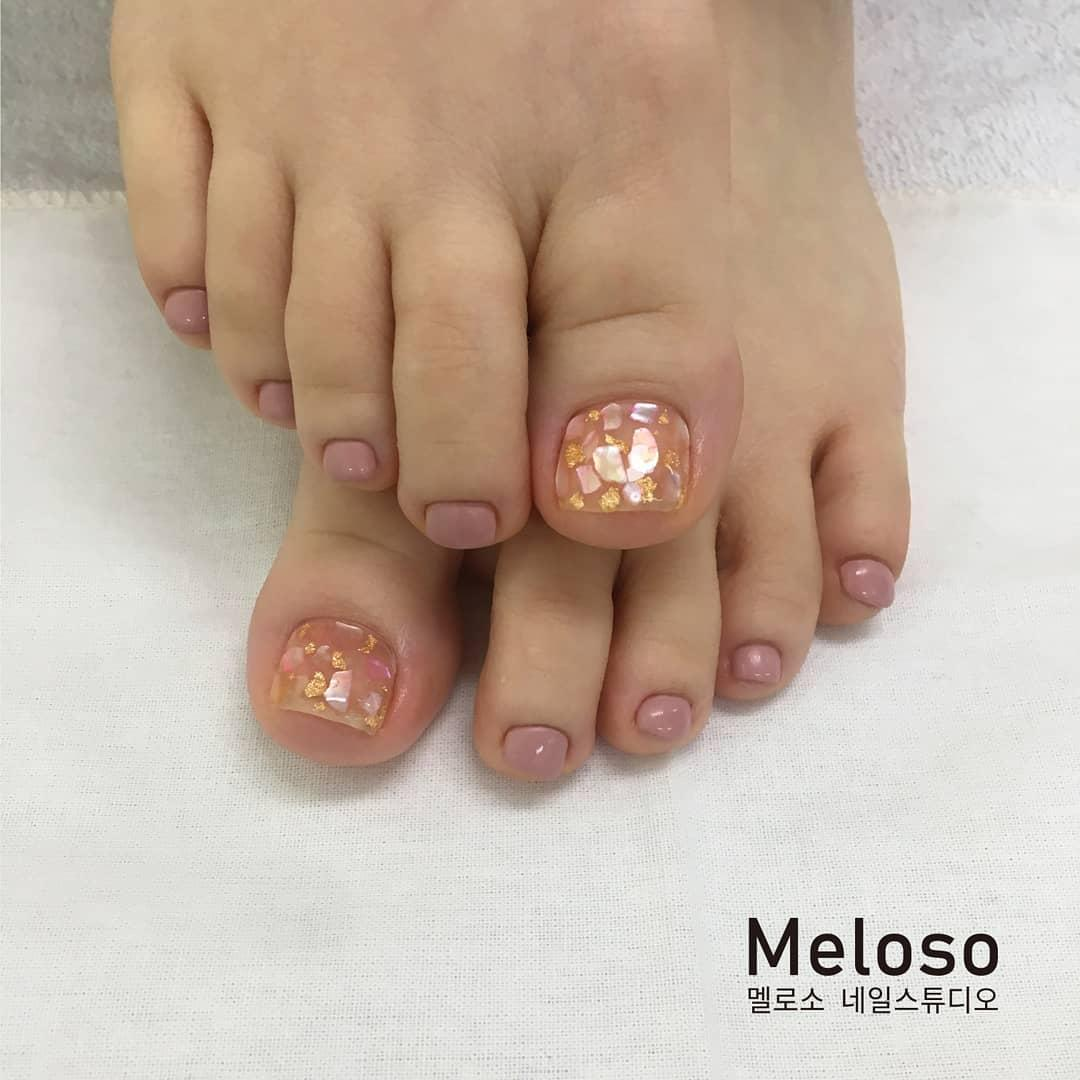nail: (551, 396, 691, 515), (268, 615, 397, 735), (422, 499, 498, 550), (500, 723, 569, 779), (838, 555, 895, 610), (633, 692, 692, 741), (321, 437, 378, 484), (730, 641, 781, 685), (162, 286, 208, 334), (255, 378, 294, 426)
